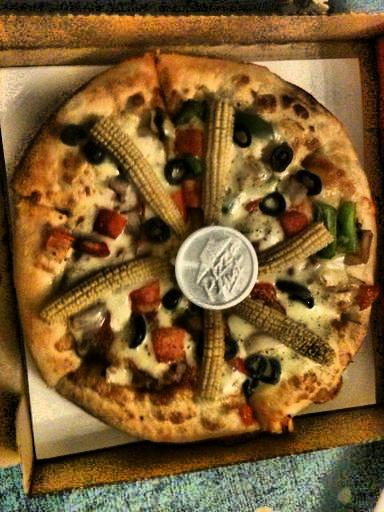pizza: (14, 40, 384, 441)
